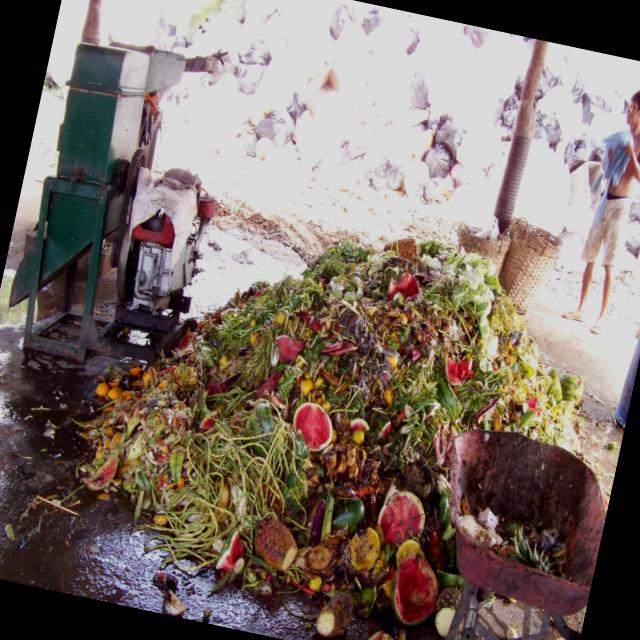garbage: (82, 181, 617, 640)
